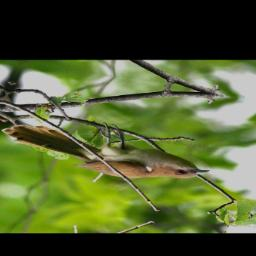Cuckoo: (0, 106, 222, 192)
